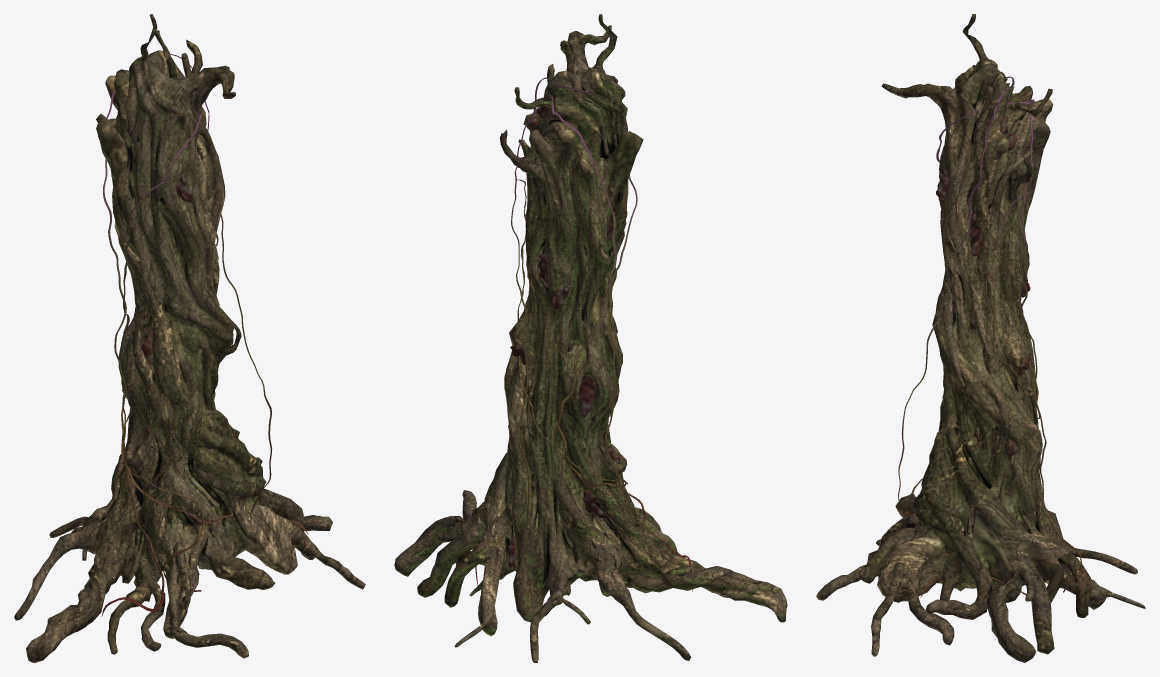
The model's file is sm10_037_ivybody01a.fbx.
3 renders of one model, left to right at view 1: azimuth 30°, elevation 25°; view 2: azimuth 150°, elevation 25°; view 3: azimuth 270°, elevation 25°, orthographic. The views are drawn at different scales.
Visible parts, largest first — view 1: LOD_1_Group_3_Sub_1__sm10_037_IvyBody01A_A_Mat, LOD_1_Group_3_Sub_2__sm10_037_IvyBody01A_B_Mat, LOD_1_Group_1_Sub_1__sm10_037_IvyBody01A_A_Mat, LOD_1_Group_2_Sub_1__sm10_037_IvyBody01A_B_Mat; view 2: LOD_1_Group_3_Sub_1__sm10_037_IvyBody01A_A_Mat, LOD_1_Group_3_Sub_2__sm10_037_IvyBody01A_B_Mat, LOD_1_Group_1_Sub_1__sm10_037_IvyBody01A_A_Mat, LOD_1_Group_2_Sub_1__sm10_037_IvyBody01A_B_Mat; view 3: LOD_1_Group_3_Sub_1__sm10_037_IvyBody01A_A_Mat, LOD_1_Group_3_Sub_2__sm10_037_IvyBody01A_B_Mat, LOD_1_Group_1_Sub_1__sm10_037_IvyBody01A_A_Mat, LOD_1_Group_2_Sub_1__sm10_037_IvyBody01A_B_Mat.
Boxes of the visible parts, box(x1,y1,x2,y2) form: LOD_1_Group_3_Sub_1__sm10_037_IvyBody01A_A_Mat: box(96, 14, 266, 501); LOD_1_Group_3_Sub_2__sm10_037_IvyBody01A_B_Mat: box(14, 453, 365, 662); LOD_1_Group_1_Sub_1__sm10_037_IvyBody01A_A_Mat: box(101, 54, 308, 616); LOD_1_Group_2_Sub_1__sm10_037_IvyBody01A_B_Mat: box(132, 174, 209, 489); LOD_1_Group_3_Sub_1__sm10_037_IvyBody01A_A_Mat: box(485, 14, 643, 502); LOD_1_Group_3_Sub_2__sm10_037_IvyBody01A_B_Mat: box(394, 472, 787, 662); LOD_1_Group_1_Sub_1__sm10_037_IvyBody01A_A_Mat: box(455, 77, 692, 591); LOD_1_Group_2_Sub_1__sm10_037_IvyBody01A_B_Mat: box(508, 105, 619, 567); LOD_1_Group_3_Sub_1__sm10_037_IvyBody01A_A_Mat: box(881, 14, 1052, 551); LOD_1_Group_3_Sub_2__sm10_037_IvyBody01A_B_Mat: box(816, 489, 1145, 662); LOD_1_Group_1_Sub_1__sm10_037_IvyBody01A_A_Mat: box(898, 76, 1082, 597); LOD_1_Group_2_Sub_1__sm10_037_IvyBody01A_B_Mat: box(936, 116, 1030, 456).
Size of the model in its own units: 16.97 by 29.34 by 14.97.
